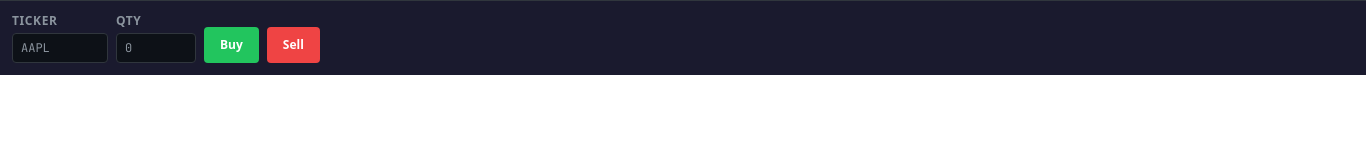
Test: TradeBar › Test T-4-01b: invalid ticker (with digits) blocks fetch and shows inline error
Type "AAPL123" into the field labelled "Ticker" at (60, 48), box [12,33,108,63]
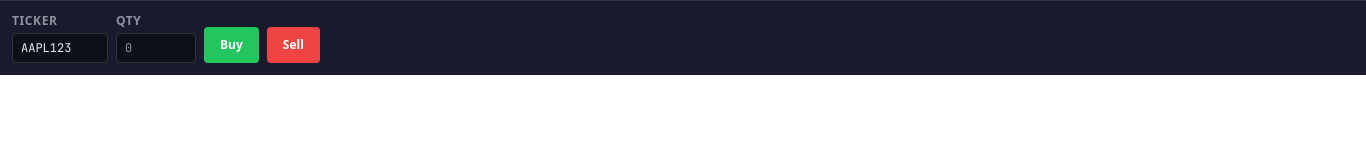
Type "5" into the number field labelled "Qty" at (156, 48), box [116,33,196,63]
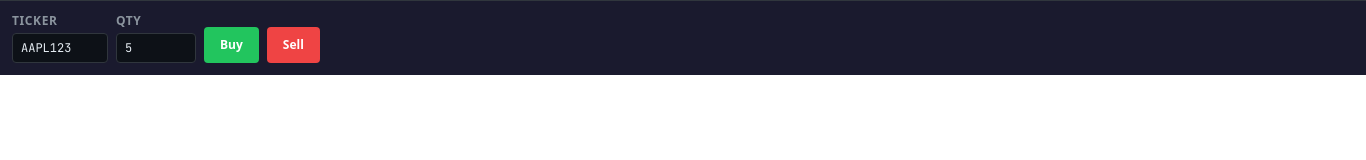
Click the button "Buy" at (231, 45), box [204,27,259,63]
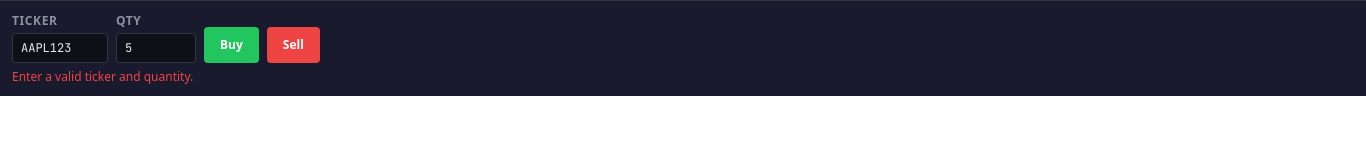
Expected: the text "Enter a valid ticker and quantity." is shown, [12,68,193,85]
